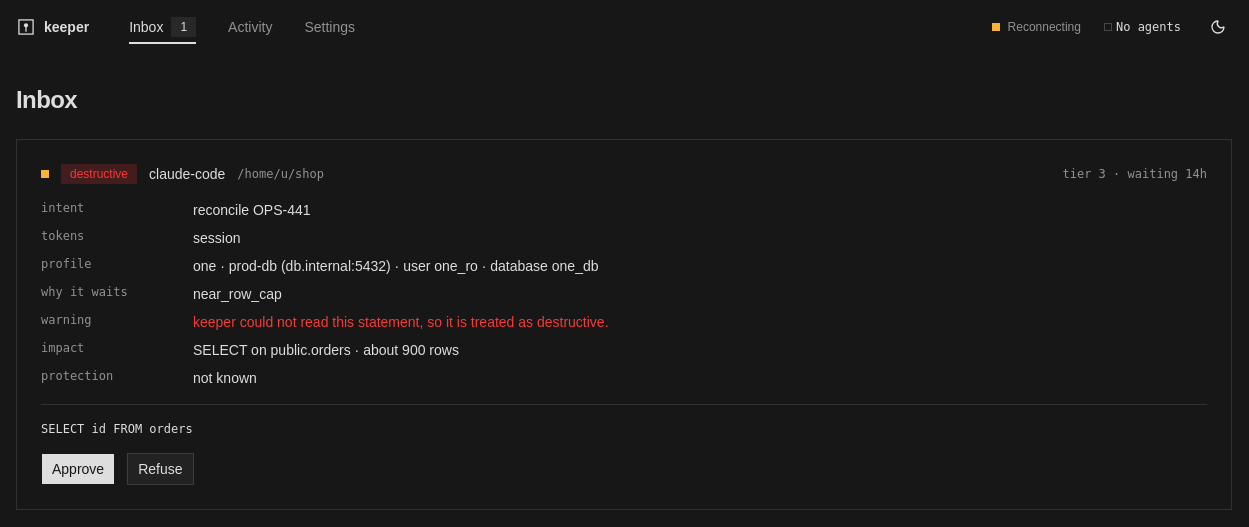
the Inbox › SHELL-C6 approving moves the item from Inbox to Activity
Step 1. Click the button "Approve" → point(78, 469), box x1=41 y1=453 x2=115 y2=485
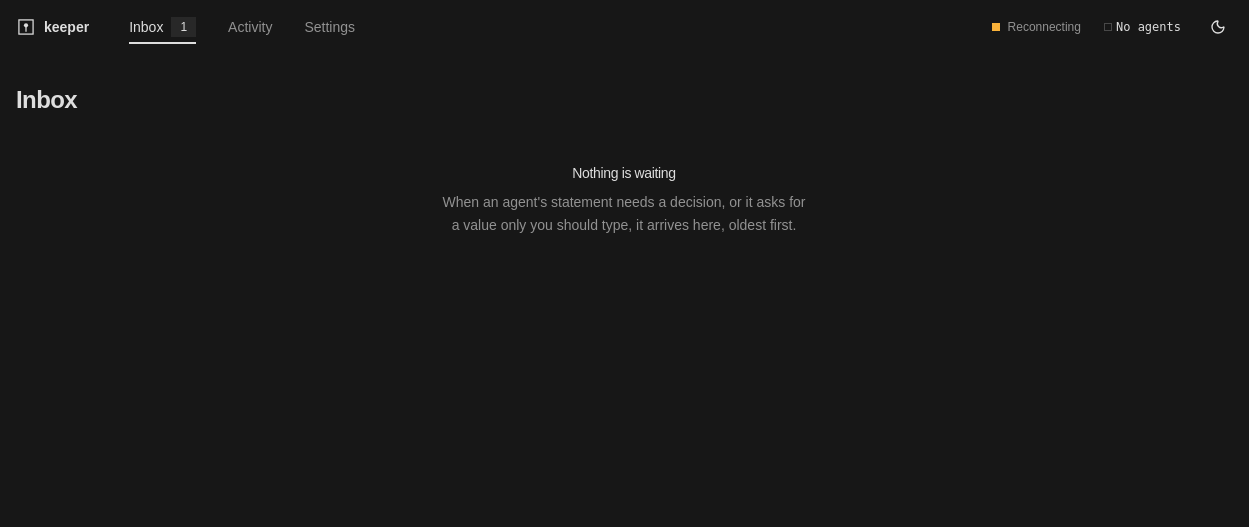
Expected: the text "Nothing is waiting" is shown, x1=572 y1=163 x2=676 y2=183
Step 2. Click the link "Activity" → point(250, 27), box x1=212 y1=0 x2=288 y2=54
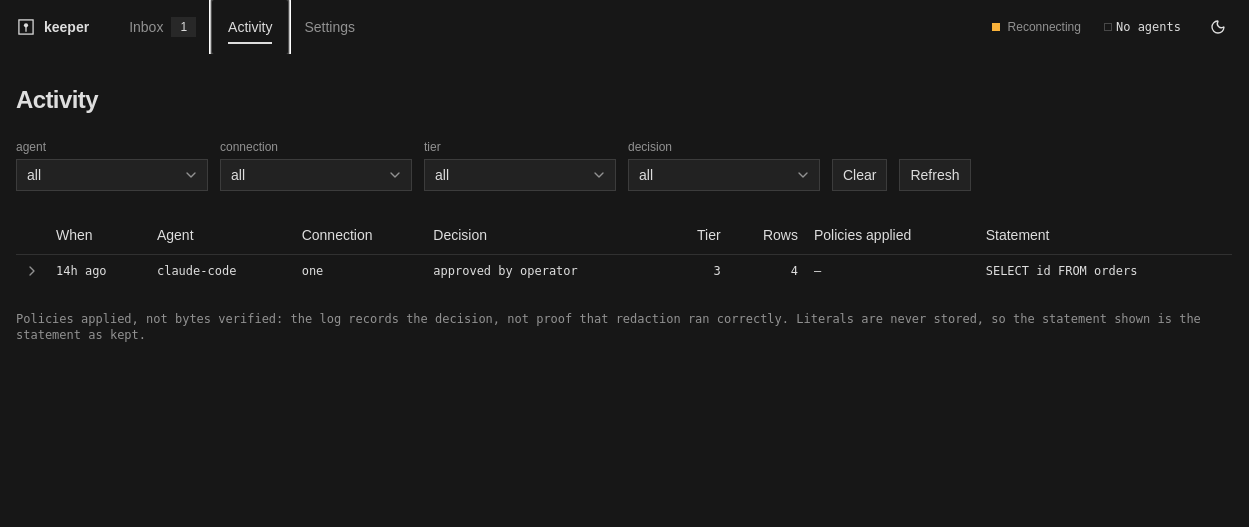
Expected: the text "approved by operator" is shown, x1=425 y1=255 x2=669 y2=287
